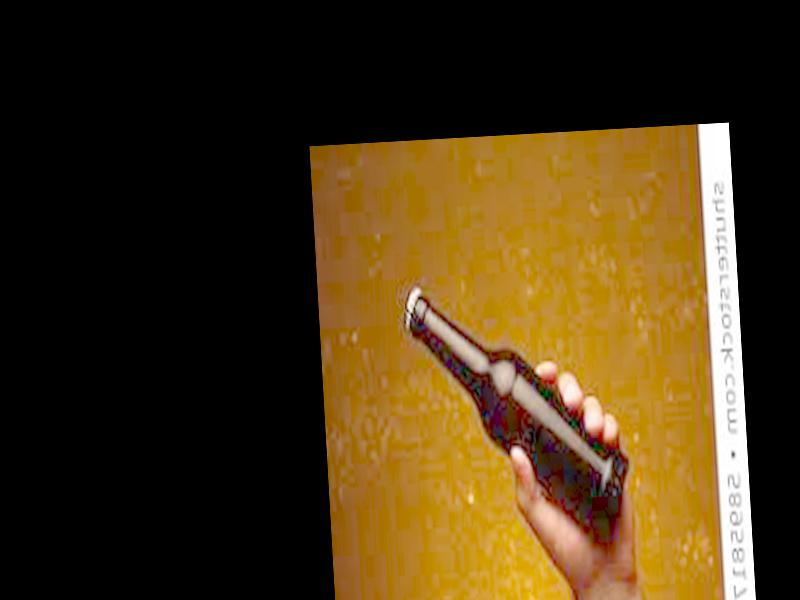Beer: (401, 272, 634, 564)
